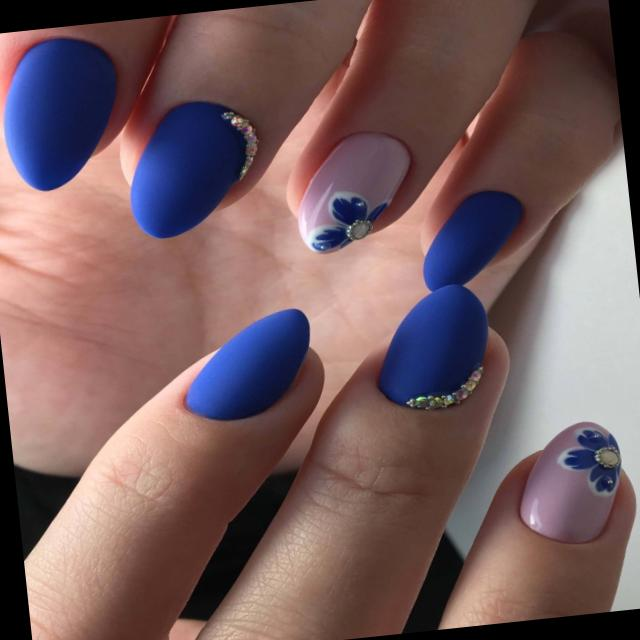Nail: (130, 100, 260, 237), (3, 36, 117, 190), (378, 283, 487, 408), (186, 308, 309, 418), (298, 131, 409, 252), (519, 420, 620, 542), (422, 189, 522, 290)
